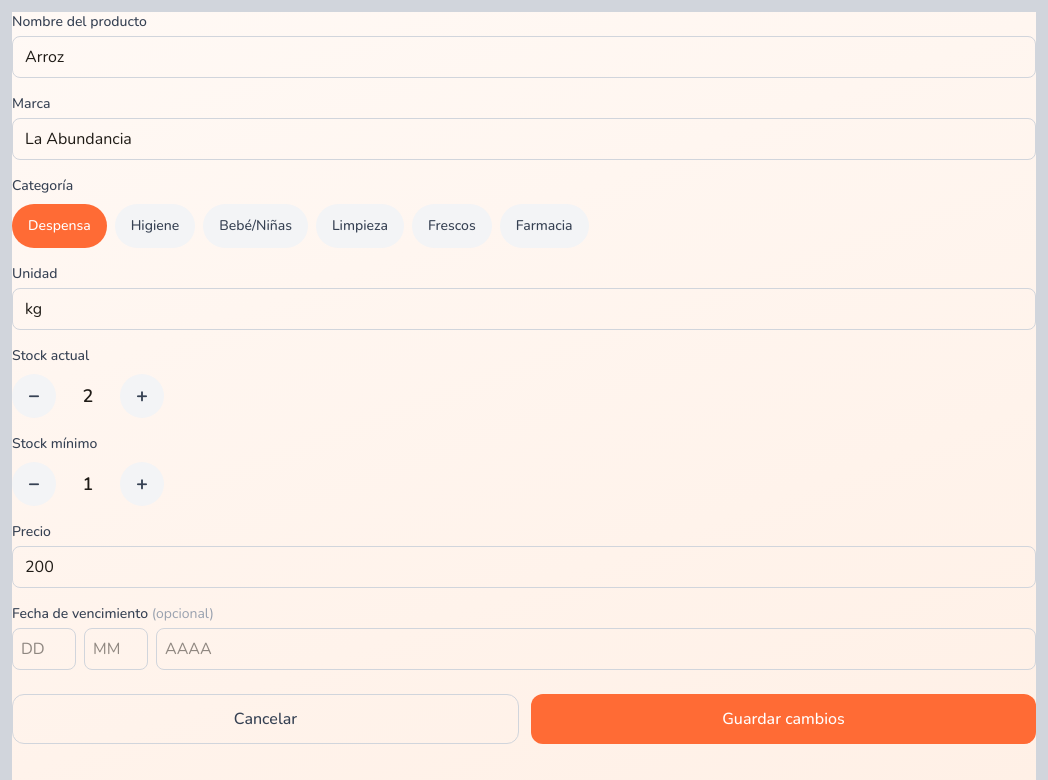
Test: EditForm › decrementing current stock updates the counter
Click the button named "decrementar cantidad actual" at (34, 396), box [12,374,56,418]
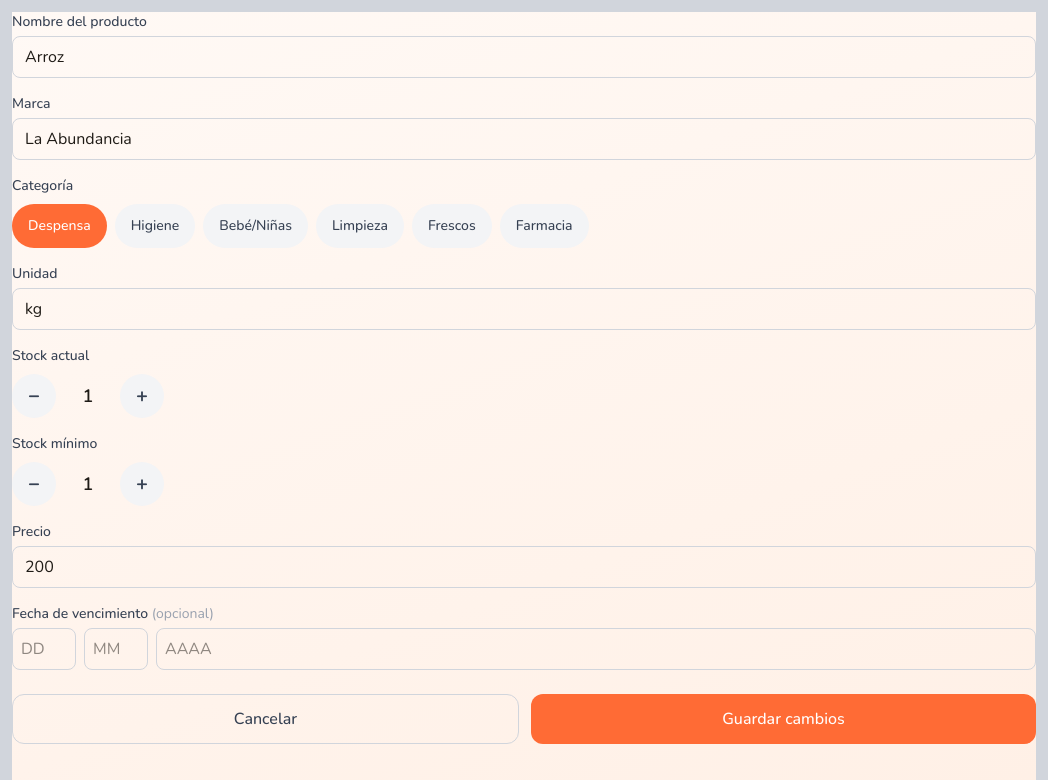
expect the text with test id "stock-counter" reads "1": met, box [83,384,93,408]
